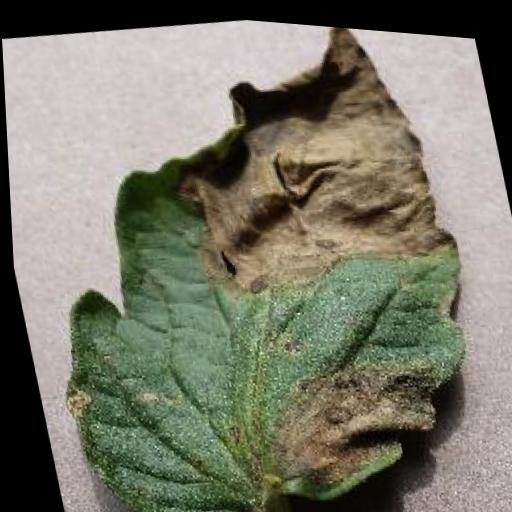Late Blight: (0, 0, 506, 512)
